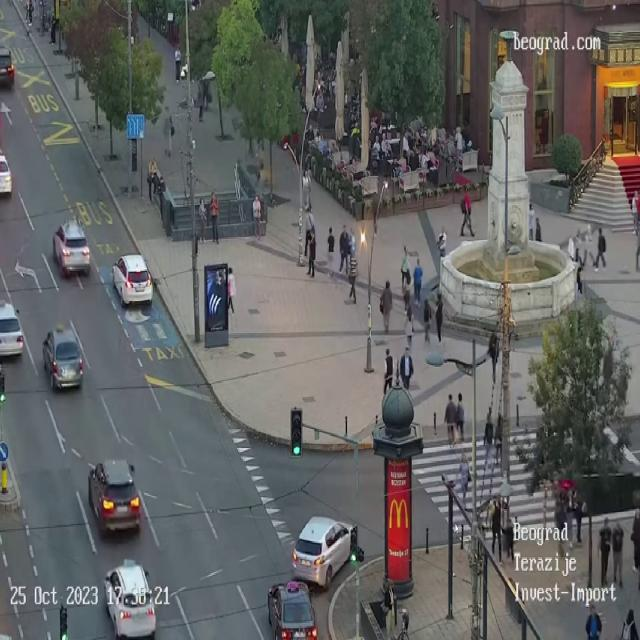car: (550, 452, 640, 510), (291, 515, 357, 591), (104, 558, 156, 640), (88, 458, 141, 537), (267, 580, 317, 640), (42, 324, 83, 391), (53, 217, 90, 278), (112, 253, 153, 308), (0, 300, 23, 358), (0, 45, 15, 87), (0, 152, 12, 196)
